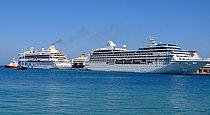Ship: (87, 44, 208, 75), (14, 46, 80, 71)
